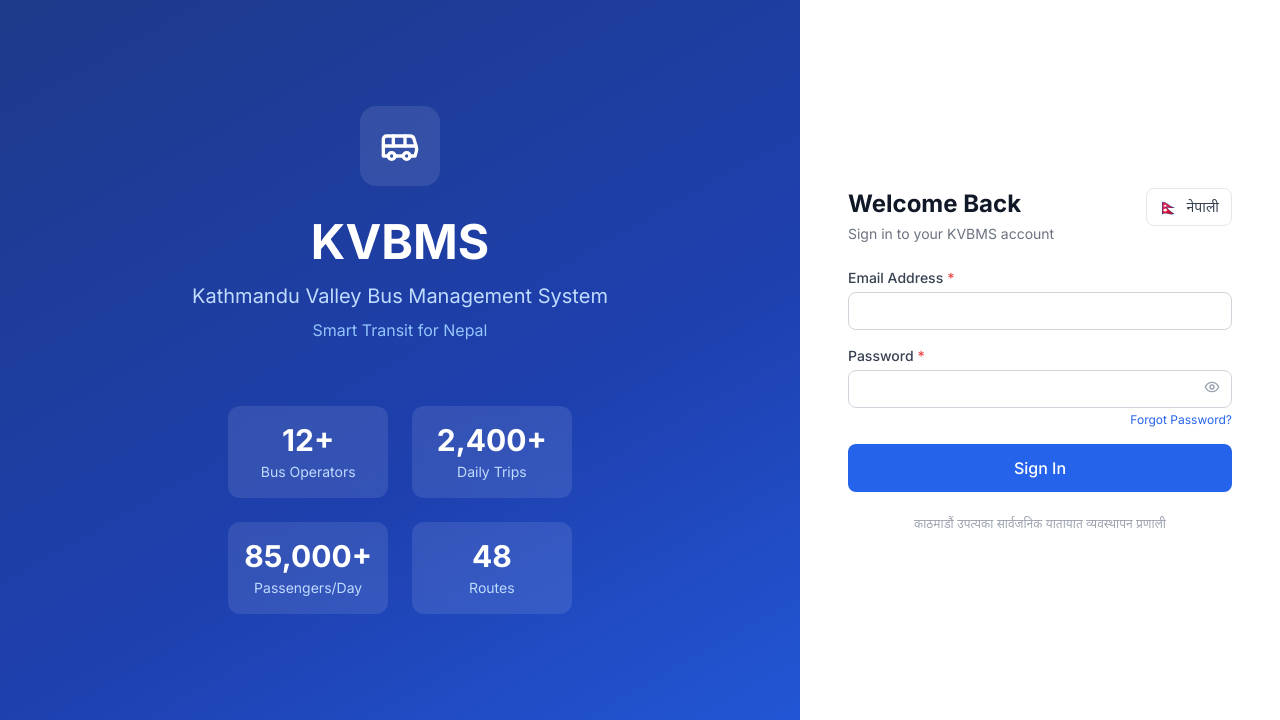
it: Authentication › can toggle language
Click the button "🇳🇵 नेपाली" at x=1189, y=207, box [1146, 188, 1232, 226]
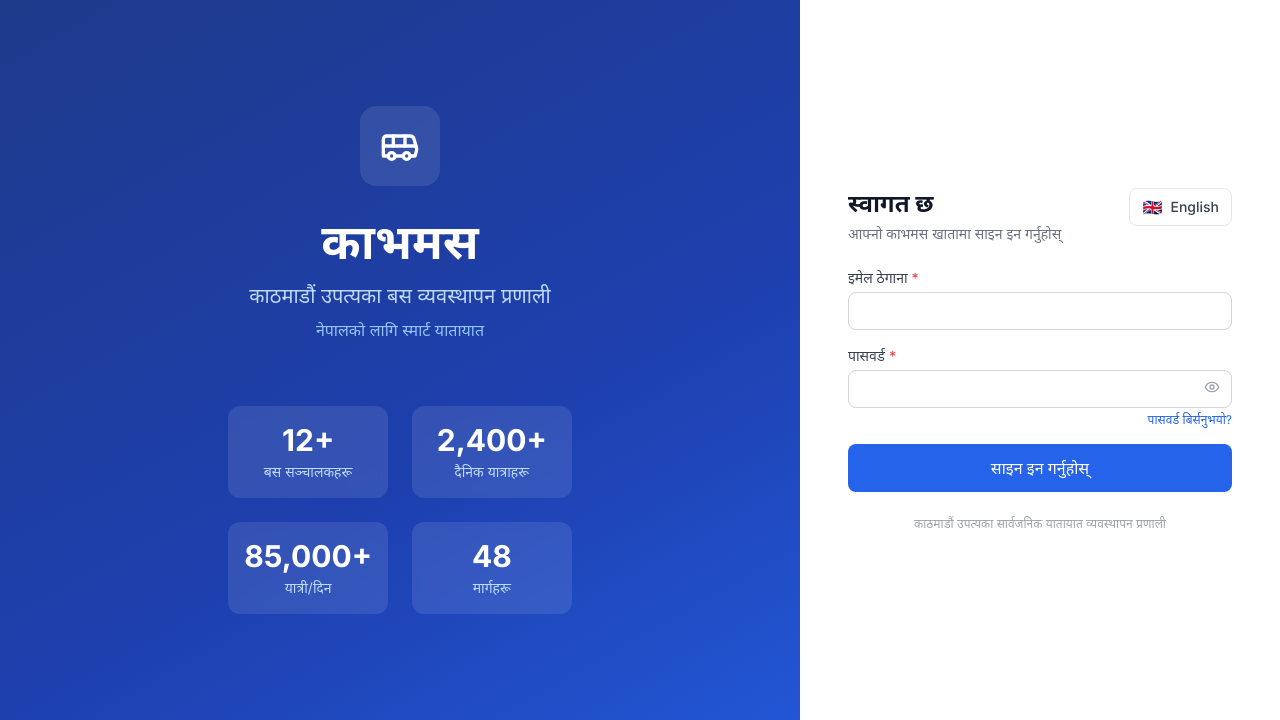
Expected: the text "साइन इन गर्नुहोस्" is shown, [848, 225, 1061, 242]
Click the button "🇬🇧 English" at x=1182, y=207, box [1130, 188, 1233, 226]
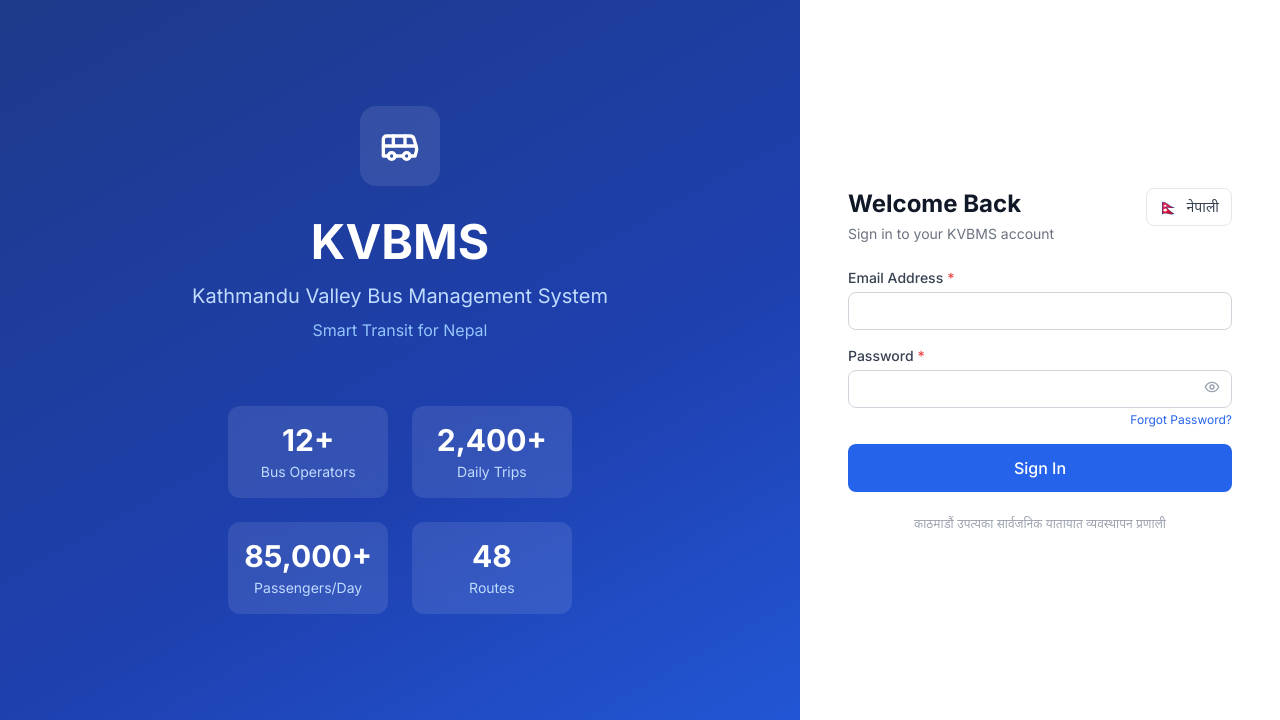
Expected: the button "Sign In" is shown, [848, 444, 1232, 492]
